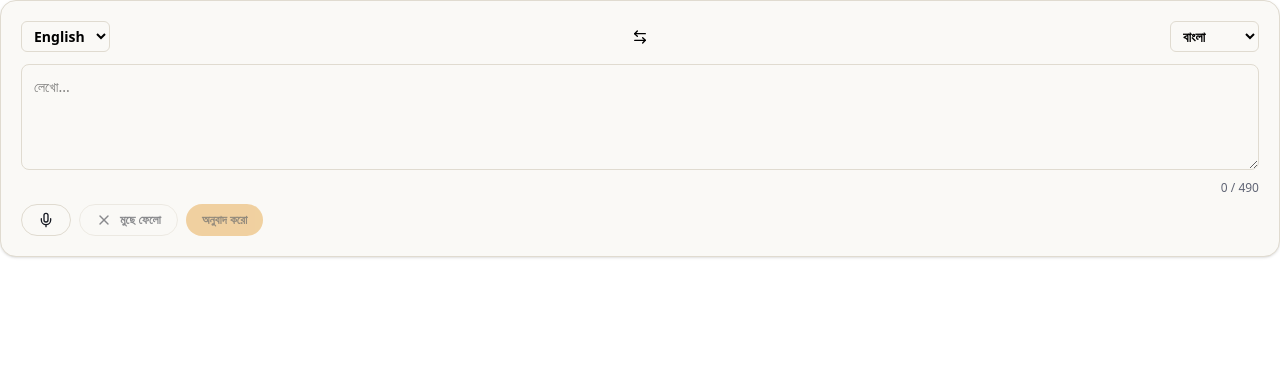
Test case: TranslatorForm › moves the translation back into the input when swapping after translating
Type "hello" into the text box with placeholder "লেখো...".
click(640, 117); type("hello")  # box [21,64,1259,170]
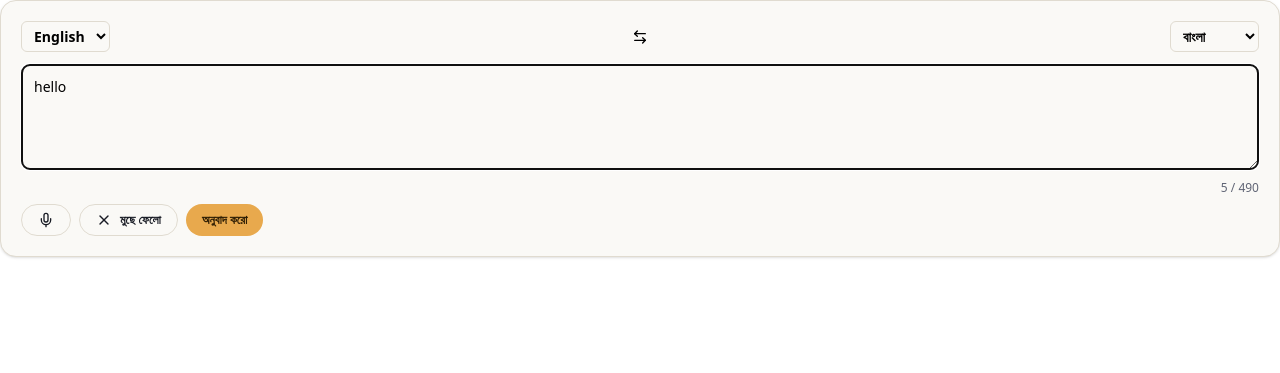
Click the button "অনুবাদ করো".
click(225, 220)  # box [186,204,263,236]
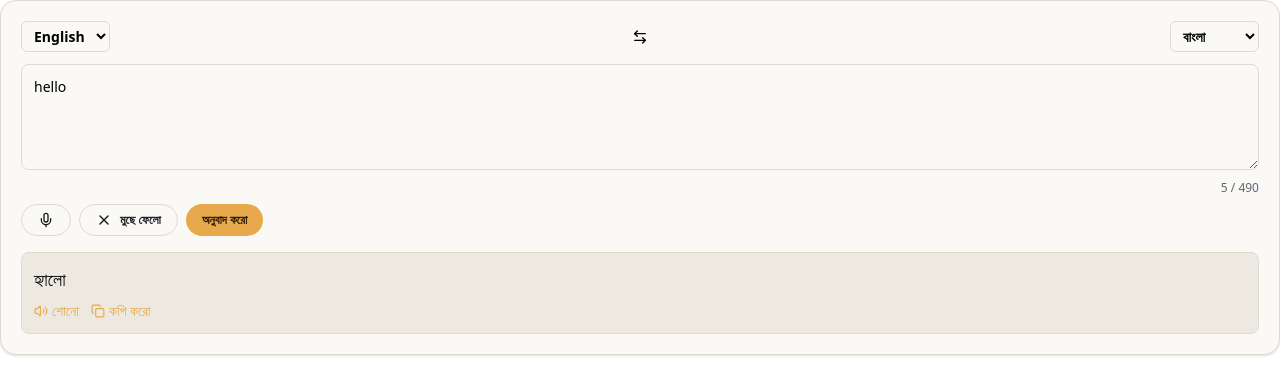
Check: the text "হ্যালো" is shown, box [34,267,66,291]
Click the button named "ভাষা বদলাও".
click(640, 36)  # box [628,24,652,48]
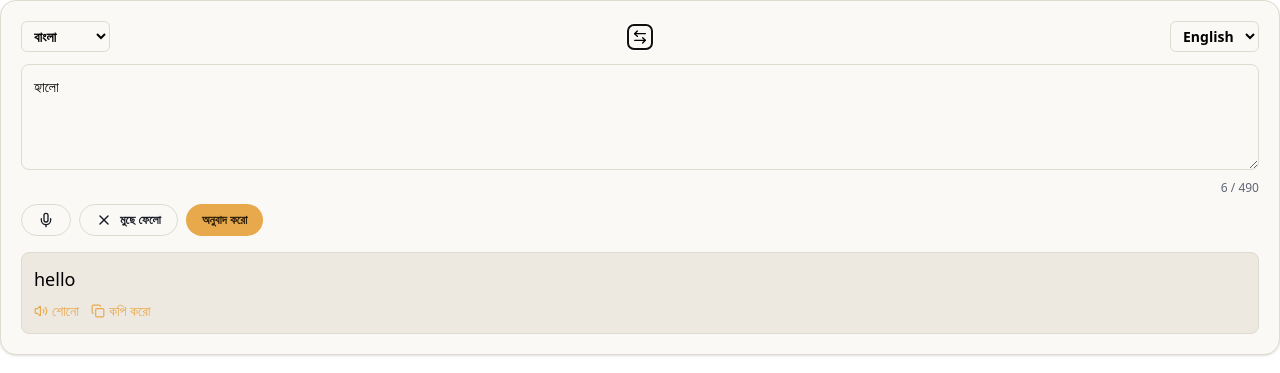
Check: the text box with placeholder "লেখো..." holds "হ্যালো", box [21,64,1259,170]
